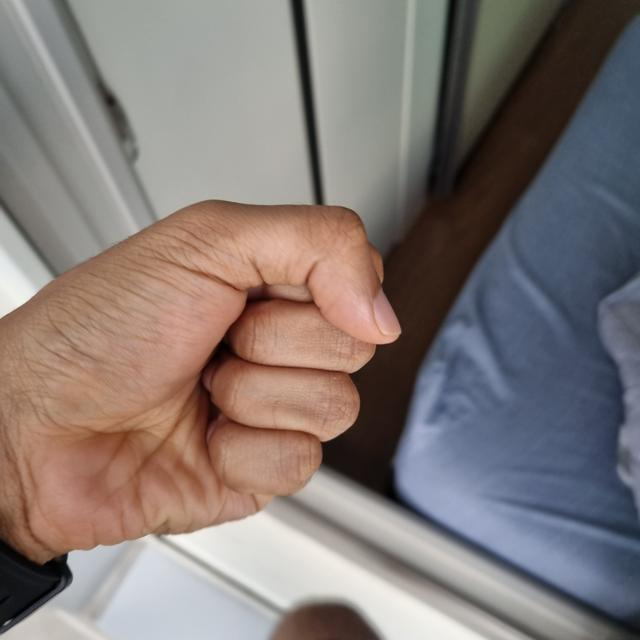Rock: (0, 197, 399, 557)
